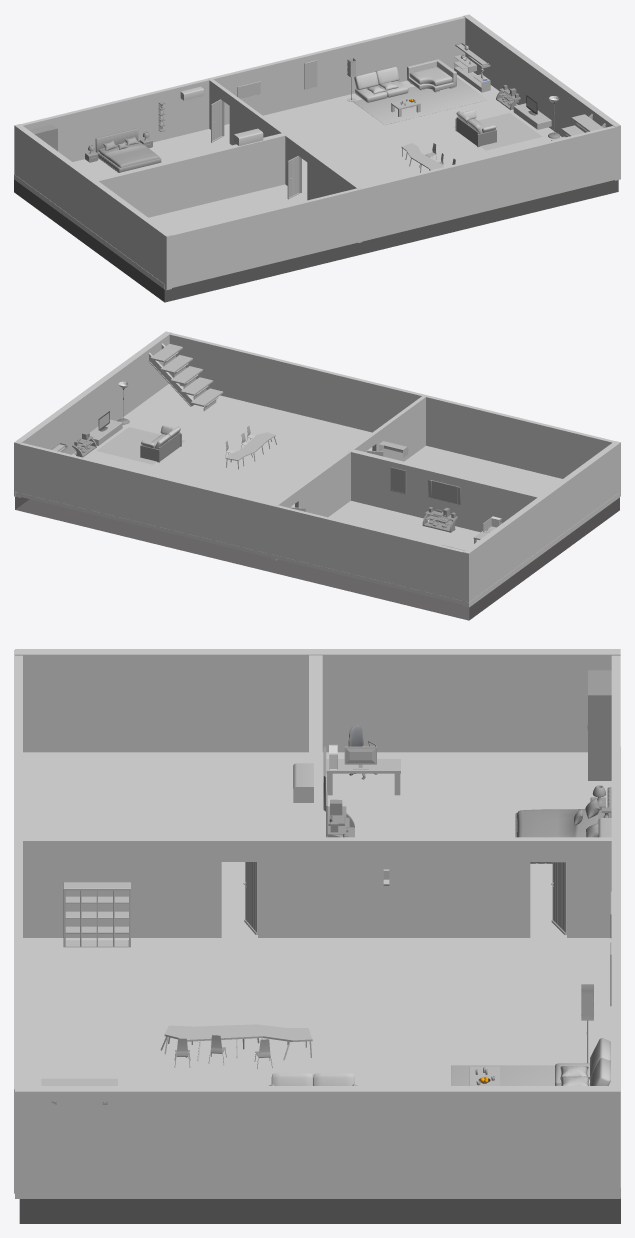
The picture shows the model from 3 angles, top to bottom: view 1: azimuth 30°, elevation 25°; view 2: azimuth 150°, elevation 25°; view 3: azimuth 270°, elevation 25°; orthographic projection. The views are drawn at different scales.
Visible parts, largest first — view 1: pCube1, pCube15, pCube3, pCube5, pCube16, pCube10, pCube20, carpet001, Carpet02, couch001_cushion, couch002, cabinet001 (+9 smaller); view 2: pCube1, pCube3, pCube15, pCube16, pCube5, pCube10, pCube20, staircase001, Carpet02, couch002, table_bar, bedroom_scene:Tv (+1 smaller); view 3: pCube1, pCube10, pCube16, pCube20, pCube3, pCube15, cabinet002, bedroom_scene:Box019, pCube5, table_bar, bedroom_scene:Object3046, carpet001 (+6 smaller).
Boxes of the visible parts, box(x1,y1,x2,y2) form: pCube1: box(14, 68, 618, 302); pCube15: box(166, 126, 617, 289); pCube3: box(21, 16, 465, 161); pCube5: box(95, 132, 287, 217); pCube16: box(14, 124, 171, 290); pCube10: box(463, 14, 620, 180); pCube20: box(208, 78, 361, 243); carpet001: box(353, 77, 487, 124); Carpet02: box(453, 113, 542, 150); couch001_cushion: box(354, 66, 408, 102); couch002: box(455, 110, 496, 147); cabinet001: box(454, 43, 490, 92); pCube1: box(15, 384, 619, 620); pCube3: box(17, 443, 468, 606); pCube15: box(169, 333, 614, 478); pCube16: box(463, 441, 620, 607); pCube5: box(348, 449, 540, 532); pCube10: box(14, 331, 171, 497); pCube20: box(272, 395, 426, 560); staircase001: box(148, 343, 223, 411); Carpet02: box(96, 427, 185, 464); couch002: box(140, 425, 181, 462); table_bar: box(225, 432, 277, 469); bedroom_scene:Tv: box(428, 480, 460, 504); pCube1: box(19, 746, 620, 1223); pCube10: box(15, 1086, 620, 1198); pCube16: box(15, 649, 620, 752); pCube20: box(18, 837, 619, 937); pCube3: box(611, 655, 620, 1085); pCube15: box(14, 650, 22, 1193); cabinet002: box(63, 882, 130, 947); bedroom_scene:Box019: box(588, 670, 611, 780); pCube5: box(309, 655, 322, 839); table_bar: box(160, 1024, 312, 1061); bedroom_scene:Object3046: box(517, 809, 607, 837); carpet001: box(451, 1065, 554, 1085).
Size of the model in its own units: 700 by 116 by 404.
